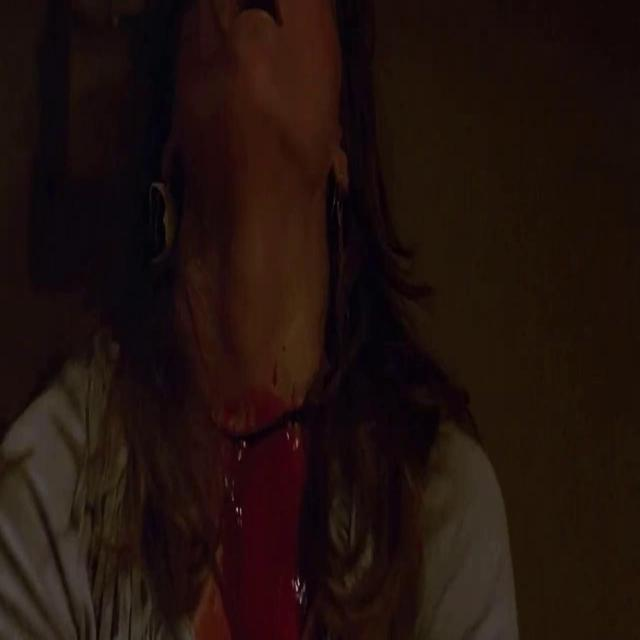flood: (190, 410, 309, 640)
